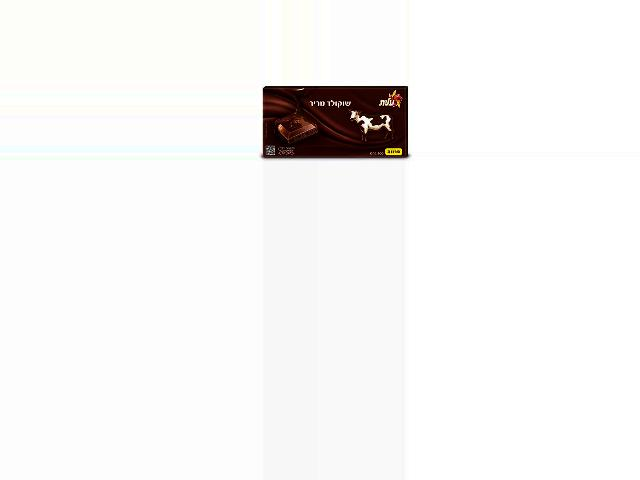chocolate: (264, 85, 411, 158)
